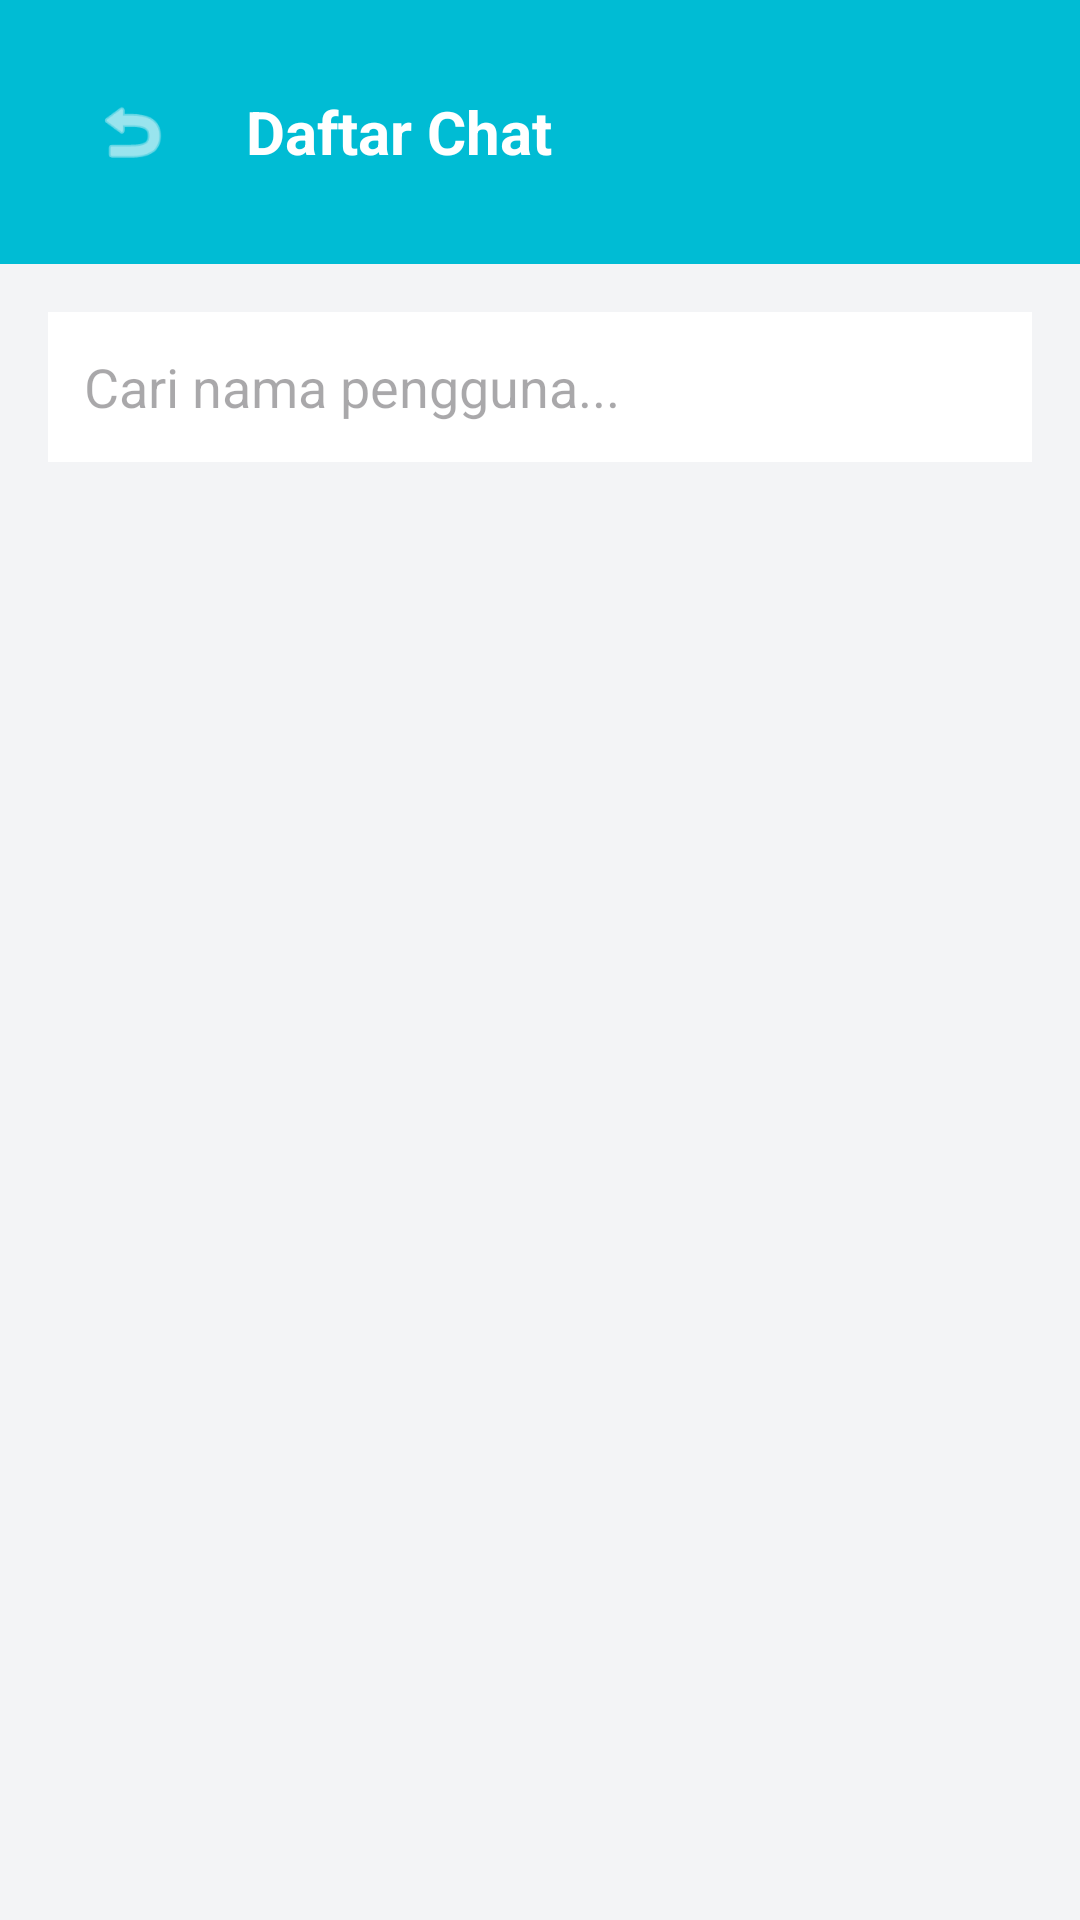

Where to tap for icons on this 1080px x 1920px app screen, as [x,y]:
revert: [133,132]
